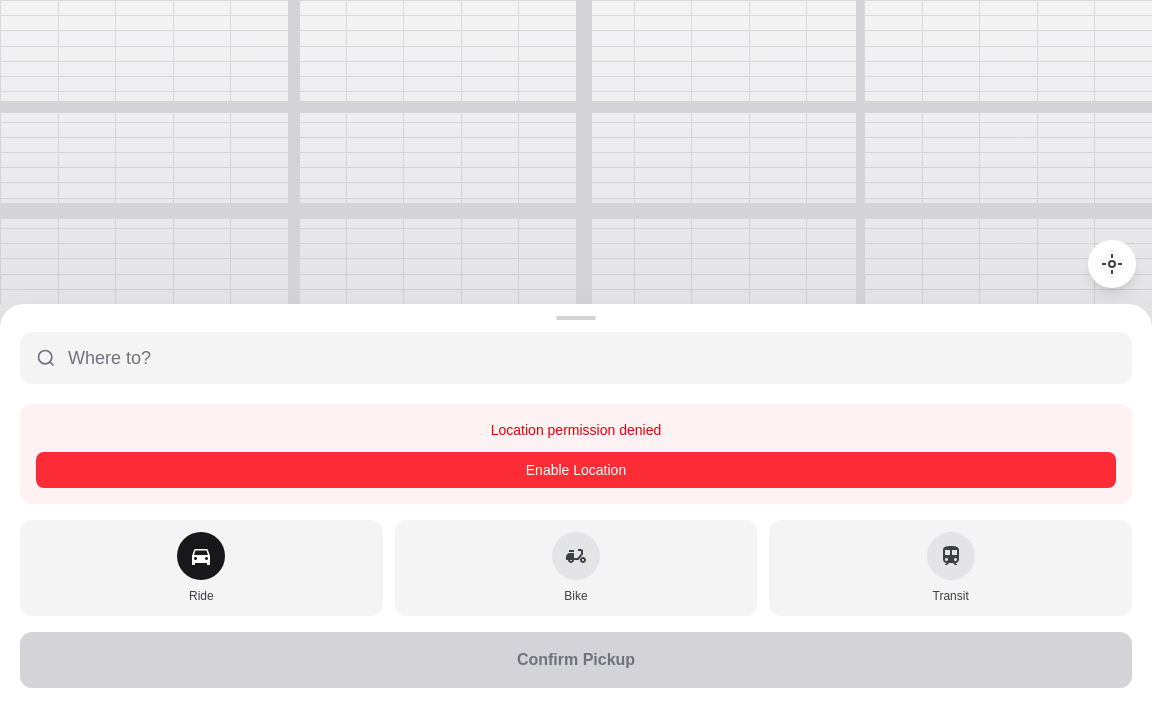
Scenario: Home Page › Blocked Permission Popup Scenarios › shows loading state immediately when clicking Enable Location
Expected: the text "Location permission denied" is shown, [491,422,661,438]
# Click Enable Location
Click the button "Enable Location".
click(576, 470)  # box [36,452,1116,488]
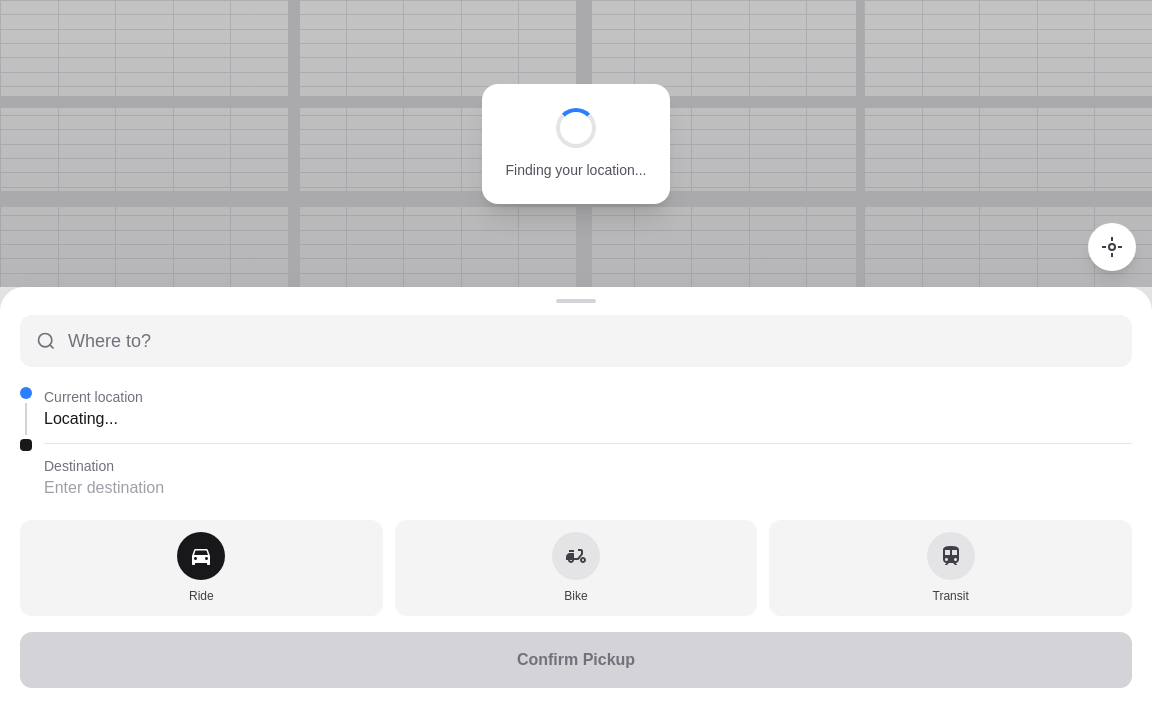
Now the text "Finding your location..." is shown, box [506,160,646,180]
